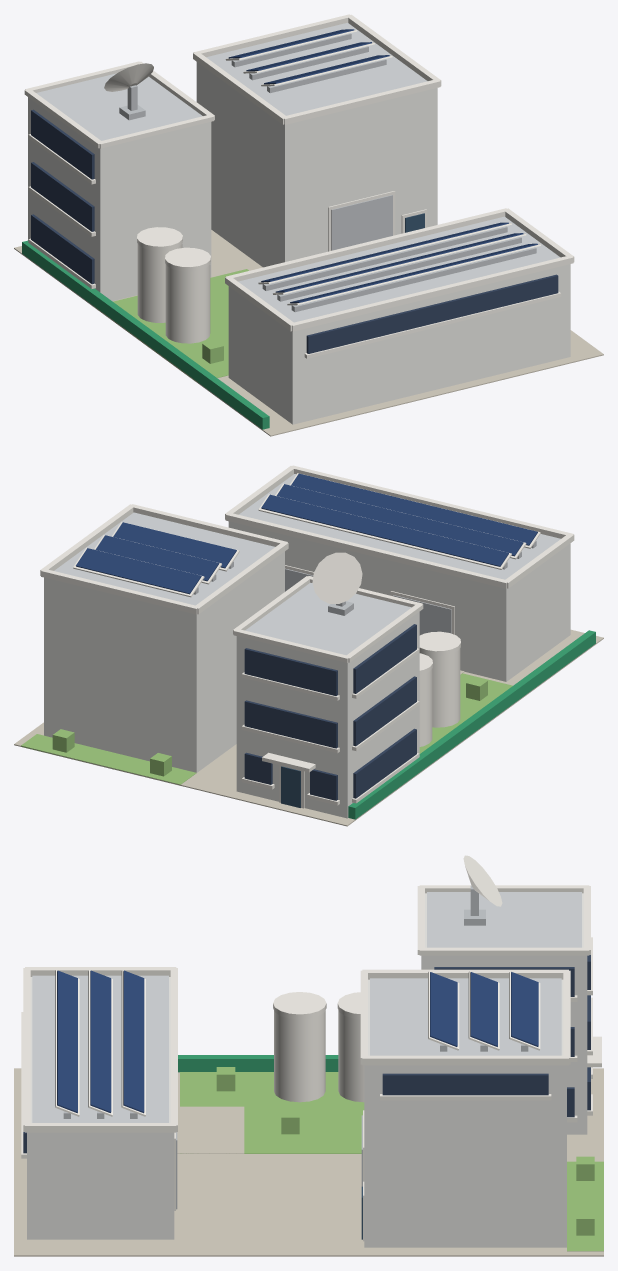
The picture shows the model from 3 angles, top to bottom: view 1: azimuth 30°, elevation 25°; view 2: azimuth 150°, elevation 25°; view 3: azimuth 270°, elevation 25°; orthographic projection. The views are drawn at different scales.
Parts seen in each view (by area): view 1: hall_main, hall_long, roof (×3), office, parapet (×12), window_band (×4), panel_rail (×6), storage_tank (×2), yard, hedge, lawn, solar_panel (×3) (+6 smaller); view 2: hall_main, solar_panel (×6), hall_long, roof (×3), parapet (×11), office, window_band (×7), hedge, yard, lawn (×2), storage_tank (×2), satellite_dish (+6 smaller); view 3: hall_main, yard, roof (×3), hall_long, solar_panel (×6), parapet (×10), lawn (×2), storage_tank (×2), office, window_band (×2), apron, solar_frame (×3) (+4 smaller).
Boxes of the visible parts, x1,y1,x2,y2 form: hall_main: (196,62,437,267); hall_long: (228,264,570,424); roof (×3): (36,22,560,322); office: (28,97,211,301); parapet (×12): (24,14,574,331); window_band (×4): (31,109,558,353); panel_rail (×6): (231,33,536,312); storage_tank (×2): (137,244,210,343); yard: (14,230,603,436); hedge: (22,240,269,429); lawn: (95,269,248,381); solar_panel (×3): (261,222,537,303); hall_main: (44,551,284,772); solar_panel (×6): (76,473,537,594); hall_long: (228,521,570,681); roof (×3): (54,474,560,655); parapet (×11): (40,465,574,662); office: (236,612,419,818); window_band (×7): (244,624,416,800); hedge: (348,630,595,819); yard: (14,629,603,826); lawn (×2): (21,673,512,784); storage_tank (×2): (419,648,460,746); satellite_dish: (312,552,362,603); hall_main: (364,979,566,1247); yard: (14,1068,603,1256); roof (×3): (32,892,581,1122); hall_long: (27,977,174,1239); solar_panel (×6): (57,970,538,1113); parapet (×10): (23,885,589,1132); lawn (×2): (180,1072,603,1251); storage_tank (×2): (274,1010,364,1102); office: (421,893,587,1134); window_band (×2): (382,967,574,1095); apron: (177,1106,244,1153); solar_frame (×3): (55,970,145,1116).
Bounding box in the file's own units: 24 × 14.71 × 32.
